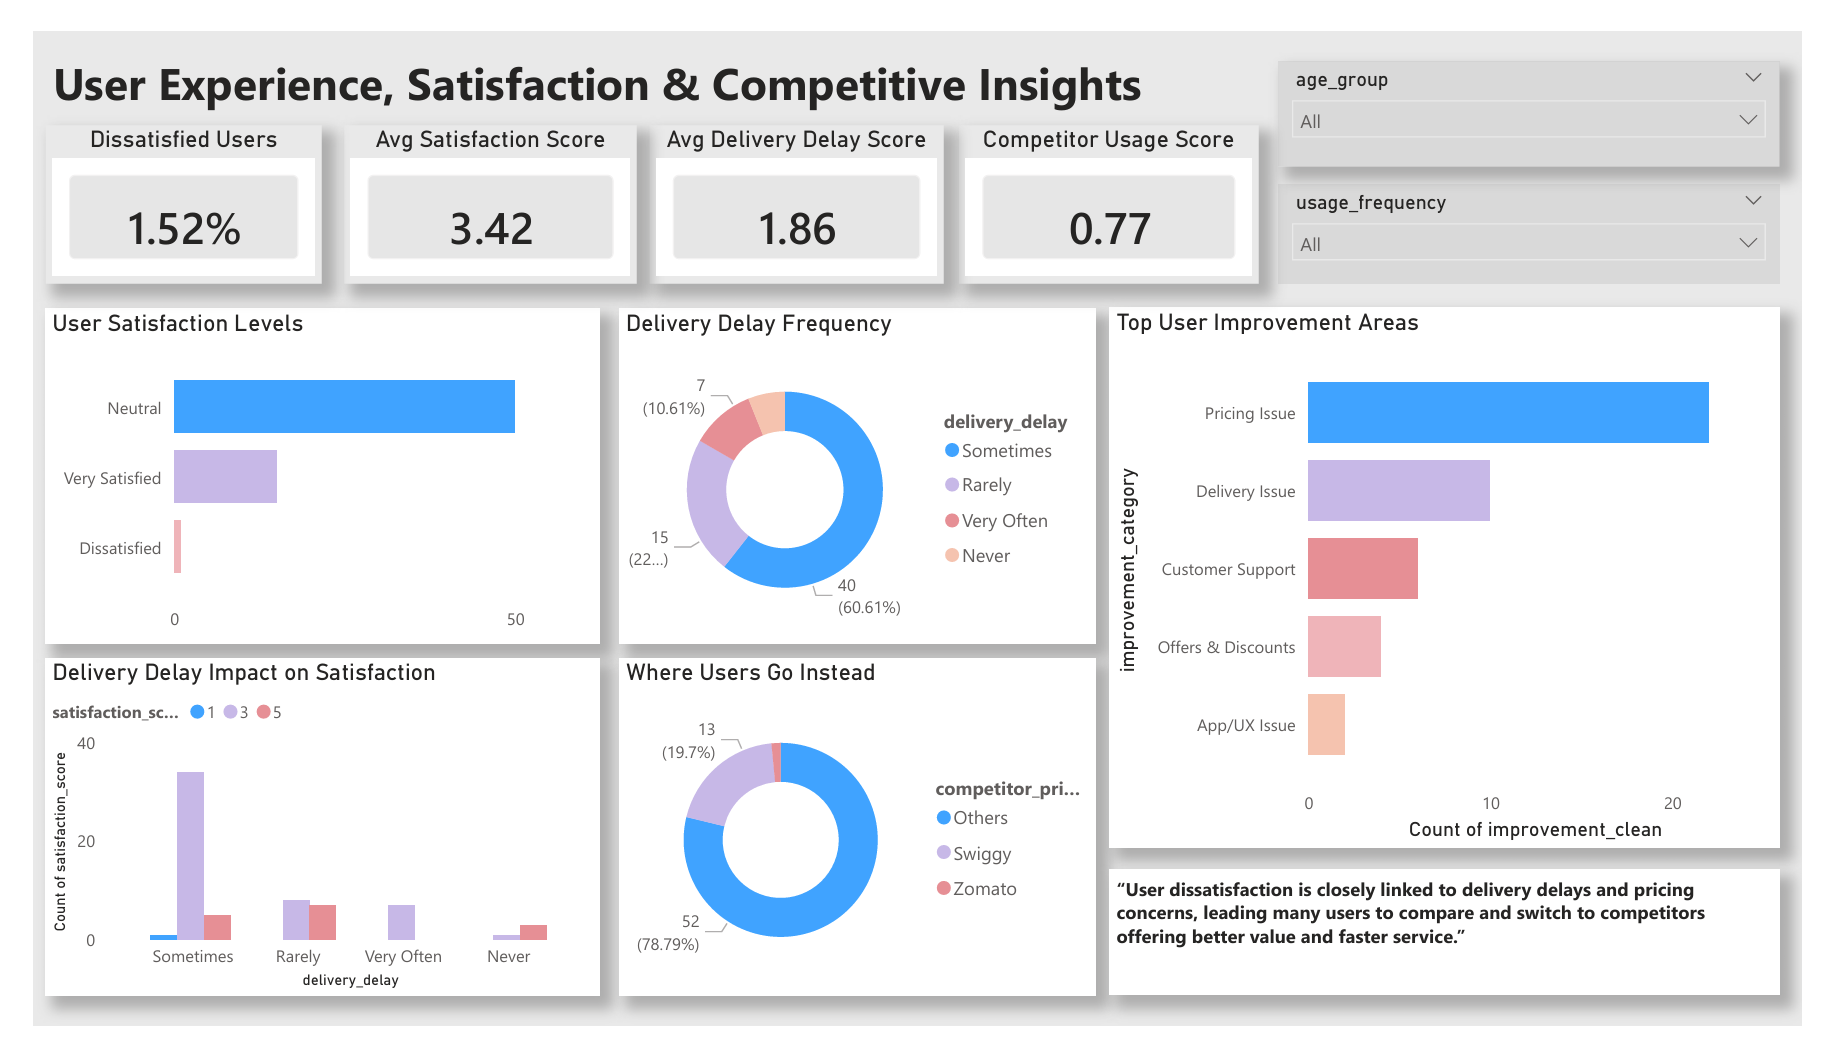

The dashboard page shown, as its layout file describes it:
{"tool":"powerbi","page":{"name":"User Experience & Satisfaction Insights","canvas":[1280,720],"ordinal":2},"visuals":[{"type":"clusteredBarChart","title":"User Satisfaction Levels","fields":{"Category":["Survey_Data.satisfaction"],"Y":["CountNonNull(Survey_Data.satisfaction_score)"]},"box":[8.6,200.5,401.1,243.3],"z":0},{"type":"donutChart","title":"Delivery Delay Frequency","fields":{"Category":["Survey_Data.delivery_delay"],"Y":["KPI_Measures.Total Survey Users"]},"box":[424.3,200.5,344.8,243.3],"z":3},{"type":"clusteredColumnChart","title":"Delivery Delay Impact on Satisfaction","fields":{"Category":["Survey_Data.delivery_delay"],"Series":["Survey_Data.satisfaction_score"],"Y":["CountNonNull(Survey_Data.satisfaction_score)"]},"box":[8.6,453.7,401.1,244.6],"z":4},{"type":"donutChart","title":"Where Users Go Instead","fields":{"Category":["Survey_Data.competitor_primary"],"Y":["KPI_Measures.Total Survey Users"]},"box":[424.3,453.7,344.8,244.6],"z":5},{"type":"clusteredBarChart","title":"Top User Improvement Areas","fields":{"Category":["Survey_Data.improvement_category"],"Y":["CountNonNull(Survey_Data.improvement_clean)"]},"box":[779.1,200,485.1,391],"z":6},{"type":"textbox","box":[778.9,606.5,485.5,91.7],"z":7},{"type":"textbox","box":[8.6,9.8,1255.8,58.7],"z":8},{"type":"cardVisual","title":"Dissatisfied Users","fields":{"Data":["KPI_Measures.Dissatisfied Users %"]},"box":[8.6,68.5,200.5,114.9],"z":9},{"type":"cardVisual","title":"Avg Satisfaction Score","fields":{"Data":["Avg(Survey_Data.satisfaction_score)"]},"box":[225,68.5,211.6,114.9],"z":10},{"type":"cardVisual","title":"Avg Delivery Delay Score","fields":{"Data":["Avg(Survey_Data.delivery_delay_score)"]},"box":[446.3,68.5,212.8,114.9],"z":11},{"type":"cardVisual","title":"Competitor Usage Score","fields":{"Data":["Avg(Survey_Data.competitor_usage_flag)"]},"box":[670.1,68.5,216.4,114.9],"z":12},{"type":"slicer","fields":{"Values":["Survey_Data.age_group"]},"box":[901.2,22,363.2,75.8],"z":13},{"type":"slicer","fields":{"Values":["Survey_Data.usage_frequency"]},"box":[901.2,111.3,363.2,72.1],"z":14}]}

Visuals, with their boxes in screenshot pixels (x1, y1, x2, y2), scaled from the page's 1280x720 canvas onto the 1835x1050 screenshot:
"User Satisfaction Levels" clusteredBarChart: bbox=(12, 292, 587, 647)
"Delivery Delay Frequency" donutChart: bbox=(608, 292, 1103, 647)
"Delivery Delay Impact on Satisfaction" clusteredColumnChart: bbox=(12, 662, 587, 1018)
"Where Users Go Instead" donutChart: bbox=(608, 662, 1103, 1018)
"Top User Improvement Areas" clusteredBarChart: bbox=(1117, 292, 1812, 862)
textbox: bbox=(1117, 884, 1813, 1018)
textbox: bbox=(12, 14, 1813, 100)
"Dissatisfied Users" cardVisual: bbox=(12, 100, 300, 267)
"Avg Satisfaction Score" cardVisual: bbox=(323, 100, 626, 267)
"Avg Delivery Delay Score" cardVisual: bbox=(640, 100, 945, 267)
"Competitor Usage Score" cardVisual: bbox=(961, 100, 1271, 267)
slicer - Survey_Data.age_group: bbox=(1292, 32, 1813, 143)
slicer - Survey_Data.usage_frequency: bbox=(1292, 162, 1813, 267)
